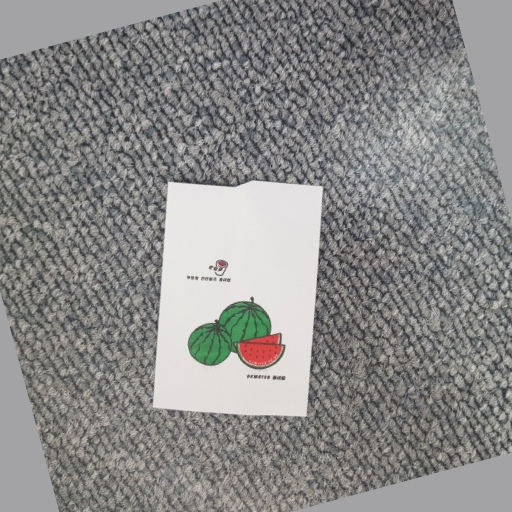Paper_2: (141, 163, 330, 436)
